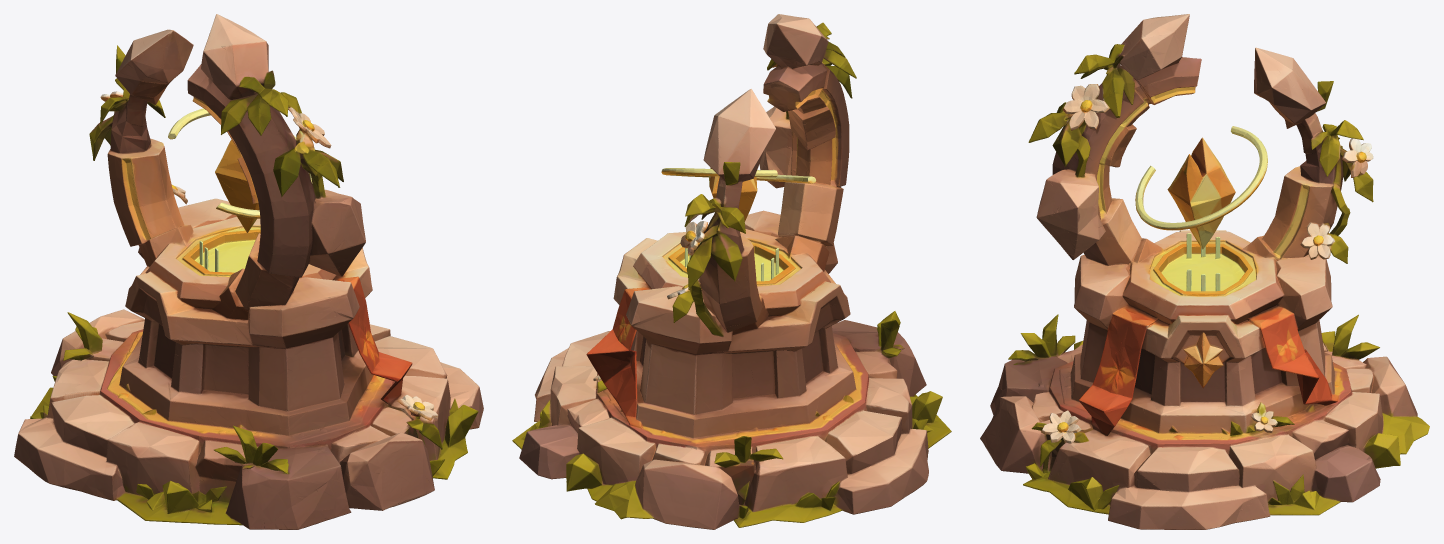
File: KeepSakePedestalV3-v1.glb
3 renders of one model, left to right at view 1: azimuth 30°, elevation 25°; view 2: azimuth 150°, elevation 25°; view 3: azimuth 270°, elevation 25°, orthographic. The views are drawn at different scales.
Visible parts, largest first — view 1: tripo_node_89aa2186-1a9e-49f7-bc14-4f25a7e8d227; view 2: tripo_node_89aa2186-1a9e-49f7-bc14-4f25a7e8d227; view 3: tripo_node_89aa2186-1a9e-49f7-bc14-4f25a7e8d227.
Boxes of the visible parts, <box> form: tripo_node_89aa2186-1a9e-49f7-bc14-4f25a7e8d227: <box>14,14,483,529</box>; tripo_node_89aa2186-1a9e-49f7-bc14-4f25a7e8d227: <box>512,14,951,529</box>; tripo_node_89aa2186-1a9e-49f7-bc14-4f25a7e8d227: <box>980,14,1429,529</box>.
Bounding box in the file's own units: 0.9462 × 0.9796 × 0.9779.
1 material, 1 textured.
